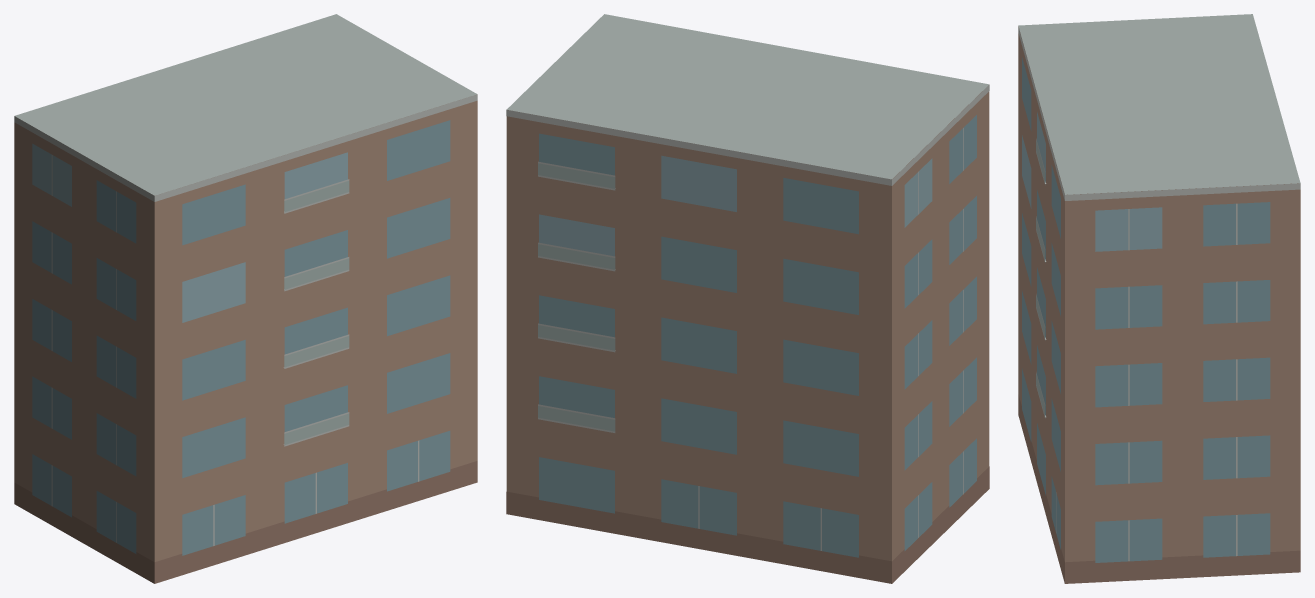
The model's file is survey-upis-32854386.glb.
The picture shows the model from 3 angles, left to right: view 1: azimuth 30°, elevation 25°; view 2: azimuth 150°, elevation 25°; view 3: azimuth 270°, elevation 25°; orthographic projection. The views are drawn at different scales.
Visible parts, largest first — view 1: survey-upis-32854386.tmp; view 2: survey-upis-32854386.tmp; view 3: survey-upis-32854386.tmp.
Part boxes in pixels (x1,y1,x2,y2): survey-upis-32854386.tmp: [14, 14, 477, 583]; survey-upis-32854386.tmp: [506, 14, 989, 583]; survey-upis-32854386.tmp: [1018, 14, 1300, 583].
Size of the model in its own units: 15.08 by 15.12 by 9.96.
